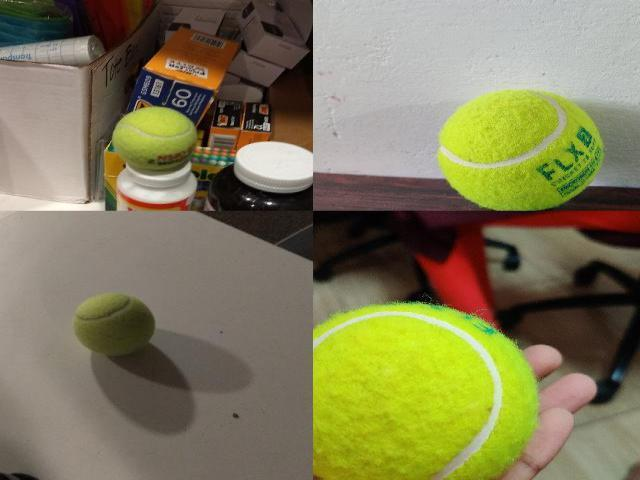tennis-ball: (313, 304, 538, 479), (436, 88, 604, 210), (112, 105, 199, 169), (70, 293, 156, 357)
